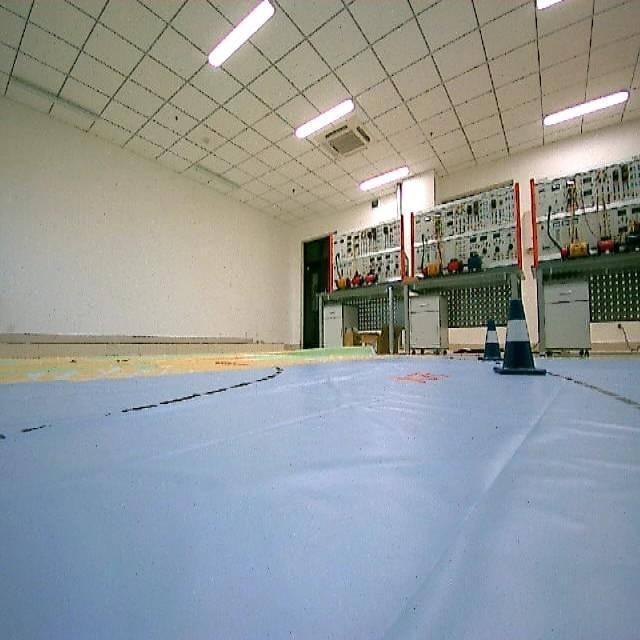obstacle: (497, 290, 557, 384), (476, 318, 504, 366)
